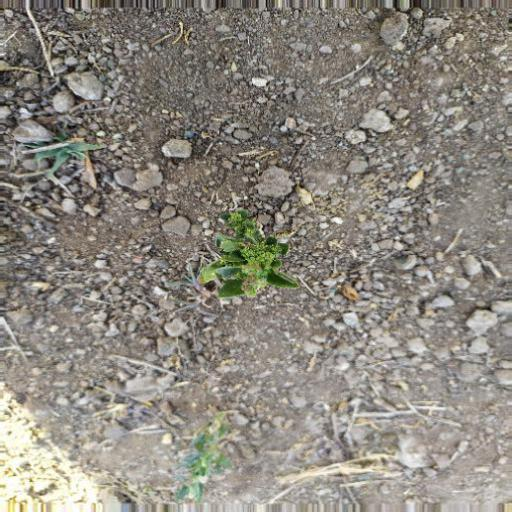weed: (205, 212, 286, 294)
